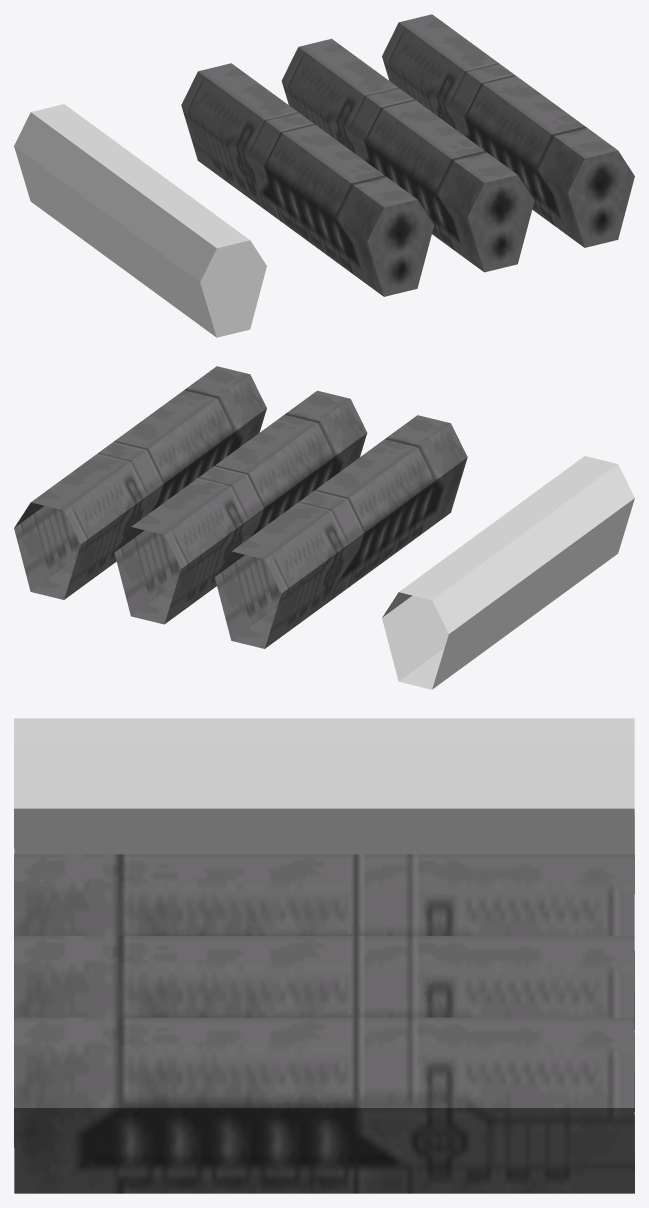
File: smt_hivefrigaterightgun.dae
3 renders of one model, top to bottom at view 1: azimuth 30°, elevation 25°; view 2: azimuth 150°, elevation 25°; view 3: azimuth 270°, elevation 25°, orthographic. The views are drawn at different scales.
Visible parts, largest first — view 1: COL[Root], MULT[Root]_LOD[0], MULT[Root]_LOD[2], MULT[Root]_LOD[1]; view 2: COL[Root], MULT[Root]_LOD[0], MULT[Root]_LOD[2], MULT[Root]_LOD[1]; view 3: MULT[Root]_LOD[2], COL[Root], MULT[Root]_LOD[0], MULT[Root]_LOD[1].
Part boxes in pixels (x1=…): COL[Root]: x1=14, y1=104, x2=266, y2=337; MULT[Root]_LOD[0]: x1=181, y1=63, x2=434, y2=296; MULT[Root]_LOD[2]: x1=382, y1=14, x2=634, y2=247; MULT[Root]_LOD[1]: x1=281, y1=38, x2=534, y2=272; COL[Root]: x1=382, y1=456, x2=634, y2=689; MULT[Root]_LOD[0]: x1=214, y1=415, x2=467, y2=648; MULT[Root]_LOD[2]: x1=14, y1=366, x2=266, y2=599; MULT[Root]_LOD[1]: x1=114, y1=390, x2=367, y2=624; MULT[Root]_LOD[2]: x1=14, y1=1017, x2=634, y2=1193; COL[Root]: x1=14, y1=718, x2=634, y2=893; MULT[Root]_LOD[0]: x1=14, y1=854, x2=634, y2=1030; MULT[Root]_LOD[1]: x1=14, y1=936, x2=634, y2=1111.
Size of the model in its own units: 36.4 by 7.15 by 27.01.
2 materials, 2 textured.
